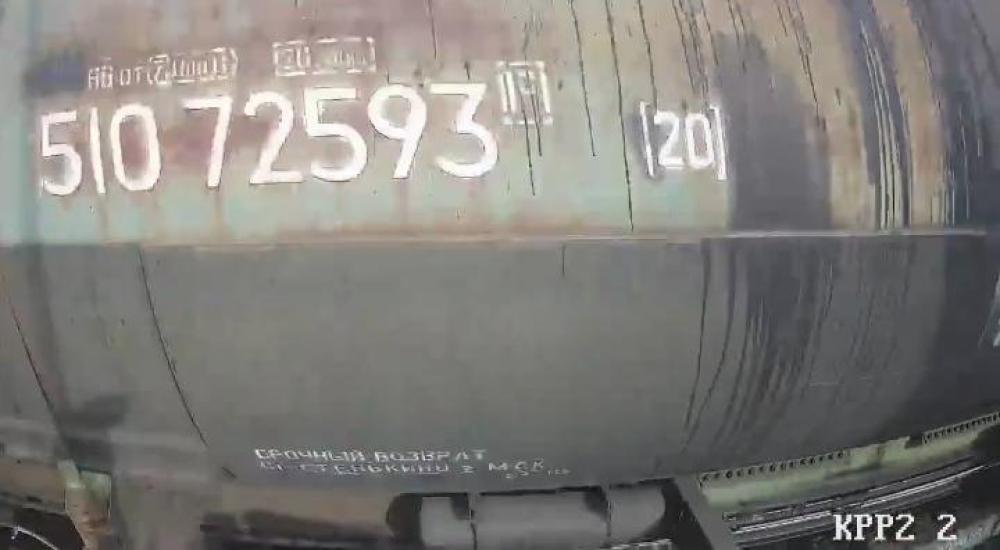Wagon-number: (24, 78, 505, 204)
